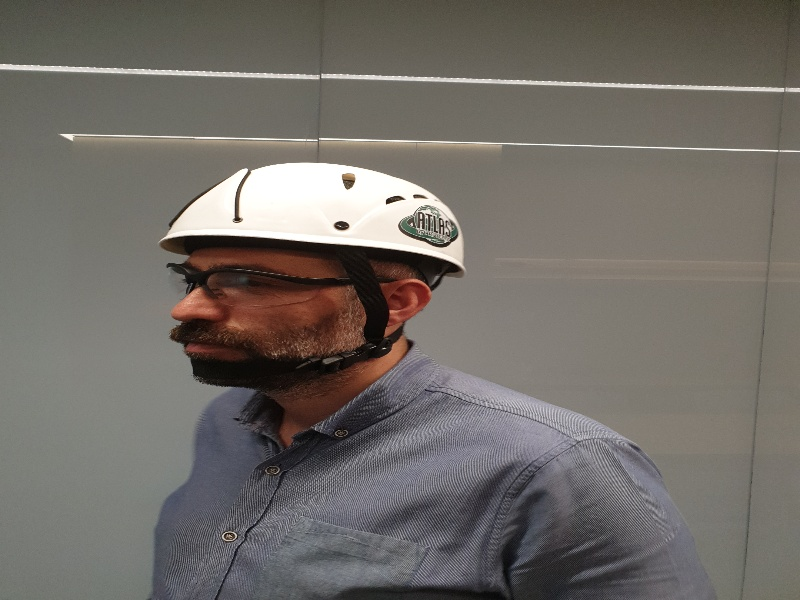Baret: (157, 163, 467, 267)
Gozluk: (163, 261, 391, 306)
